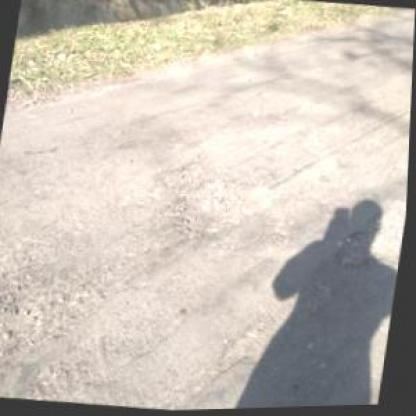pothole: (172, 173, 279, 248), (155, 146, 230, 194)
